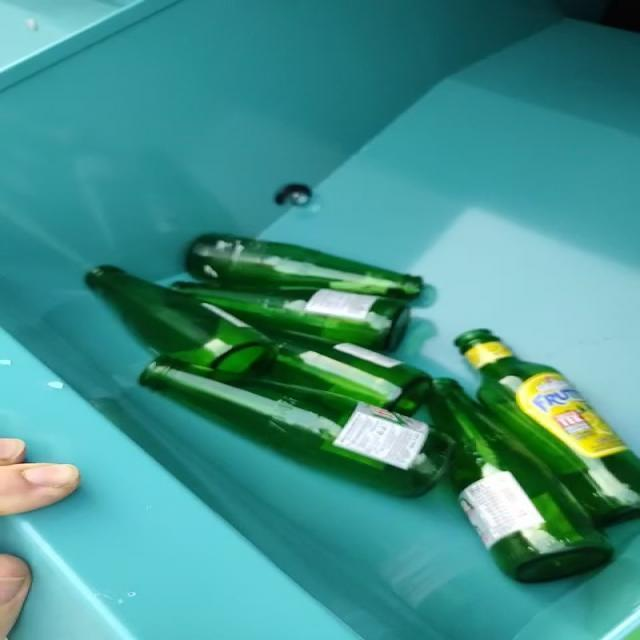Glass: (85, 236, 640, 583)
